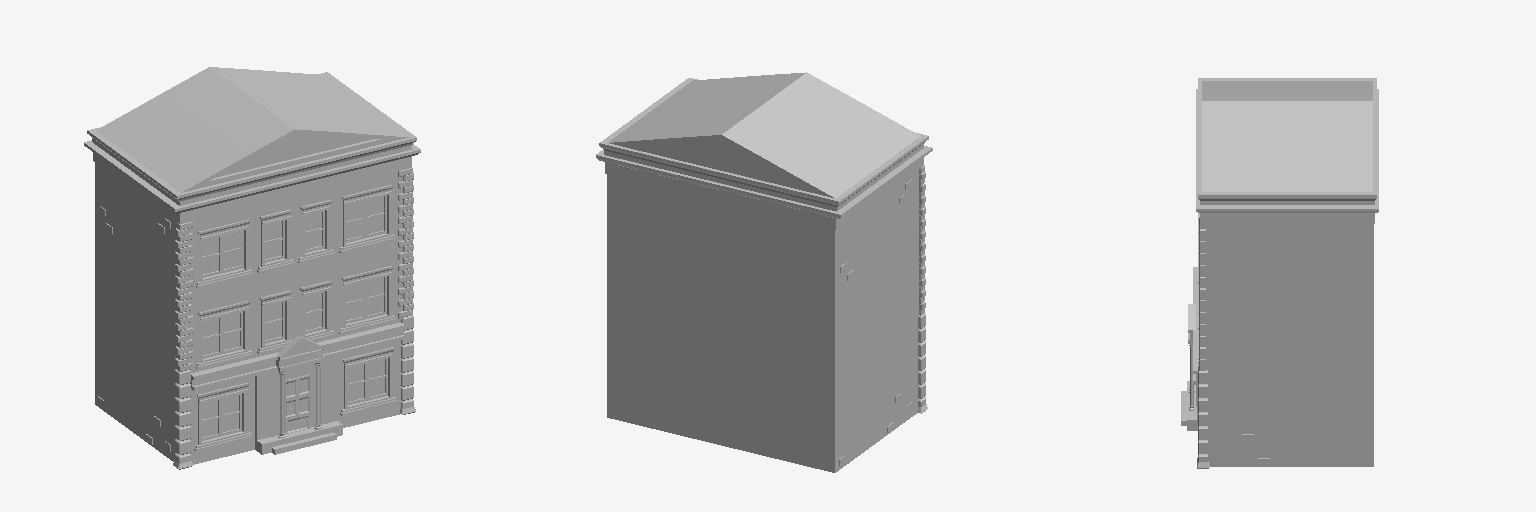
The picture shows the model from 3 angles: view 1: azimuth 30°, elevation 25°; view 2: azimuth 150°, elevation 25°; view 3: azimuth 270°, elevation 25°; orthographic projection.
Visible parts, largest first — view 1: Building3_Big.005_Cube.177; view 2: Building3_Big.005_Cube.177; view 3: Building3_Big.005_Cube.177.
Part boxes in pixels (bbox=[...]): Building3_Big.005_Cube.177: bbox=[84, 67, 420, 469]; Building3_Big.005_Cube.177: bbox=[596, 72, 932, 472]; Building3_Big.005_Cube.177: bbox=[1181, 78, 1378, 468].
Size of the model in its own units: 1129 by 1363 by 790.